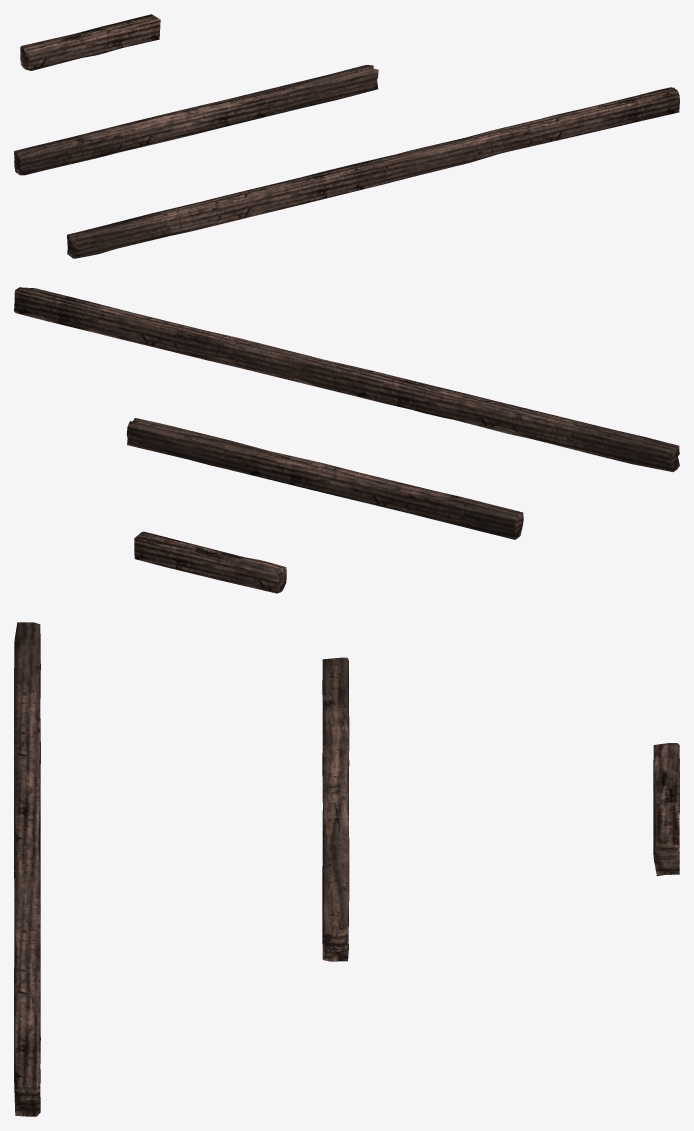
File: HomeTimber.FBX
The picture shows the model from 3 angles, top to bottom: view 1: azimuth 30°, elevation 25°; view 2: azimuth 150°, elevation 25°; view 3: azimuth 270°, elevation 25°; orthographic projection. The views are drawn at different scales.
Parts seen in each view (by area): view 1: HomeTimber_Volume7, HomeTimber_Volume008, HomeTimber_Volume009; view 2: HomeTimber_Volume7, HomeTimber_Volume008, HomeTimber_Volume009; view 3: HomeTimber_Volume7, HomeTimber_Volume008, HomeTimber_Volume009.
Part boxes in pixels (<box>): HomeTimber_Volume7: <box>67,87,679,258</box>; HomeTimber_Volume008: <box>14,65,378,175</box>; HomeTimber_Volume009: <box>20,14,160,70</box>; HomeTimber_Volume7: <box>14,287,679,471</box>; HomeTimber_Volume008: <box>126,418,523,539</box>; HomeTimber_Volume009: <box>134,531,286,593</box>; HomeTimber_Volume7: <box>14,622,40,1116</box>; HomeTimber_Volume008: <box>322,657,349,961</box>; HomeTimber_Volume009: <box>653,743,679,875</box>.
Bounding box in the file's own units: 556 × 18.8 × 338.
